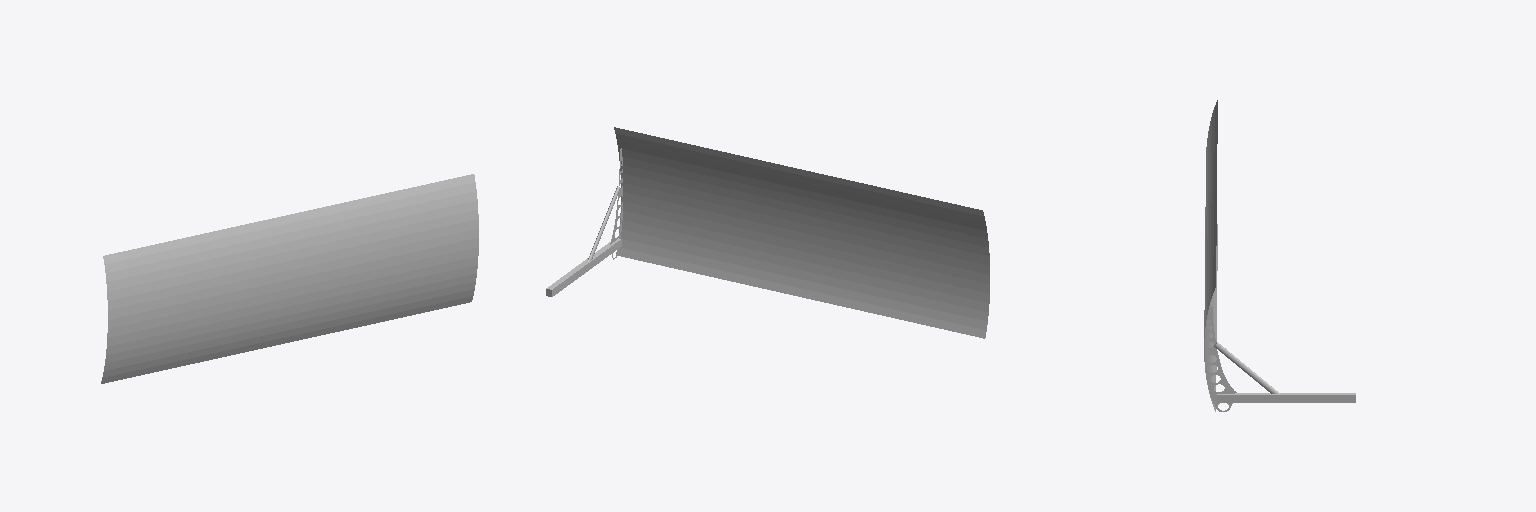
File: red_roof_and_post.obj
3 views of the same model, side by side, from view 1: azimuth 30°, elevation 25°; view 2: azimuth 150°, elevation 25°; view 3: azimuth 270°, elevation 25° (orthographic).
Visible parts, largest first — view 1: Object.1; view 2: Object.1, Object.4; view 3: Object.1, Object.4, Object.2.
Part boxes in pixels (x1,y1,x2,y2): Object.1: (101,174,478,383); Object.1: (614,127,989,338); Object.4: (546,238,621,296); Object.1: (1204,100,1217,411); Object.4: (1217,393,1355,402); Object.2: (1205,307,1236,411).
Size of the model in its own units: 131 by 45.63 by 46.34.